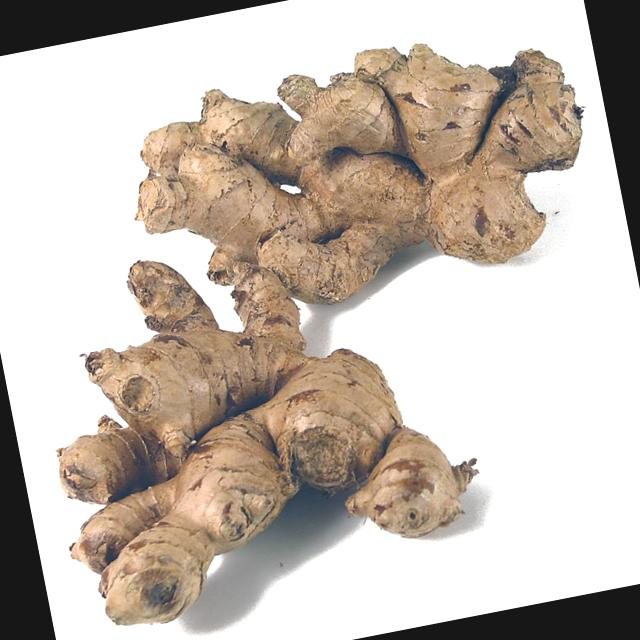ginger-root: (5, 203, 519, 640), (91, 2, 602, 322)
